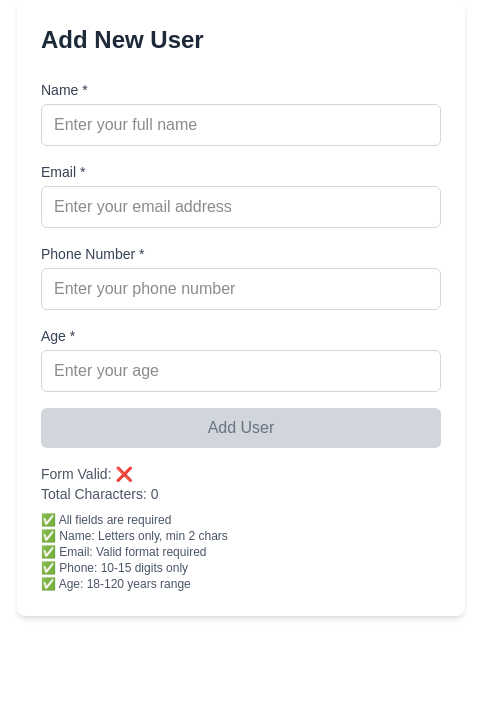
Test: UserForm Component - Working Tests Only › validates all required fields and shows appropriate error messages
The width and height of the screenshot is (483, 720).
// Attempt to submit empty form
Click the button "Add User".
click(241, 428)  # box [41,408,441,448]
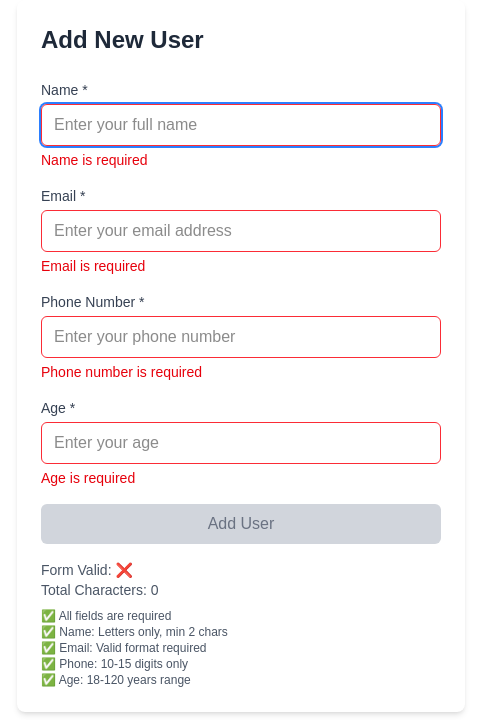
Expected: the text "Name is required" is shown, [41,152,148,168]
Expected: the text "Email is required" is shown, [41,258,145,274]
Expected: the text "Phone number is required" is shown, [41,364,202,380]
